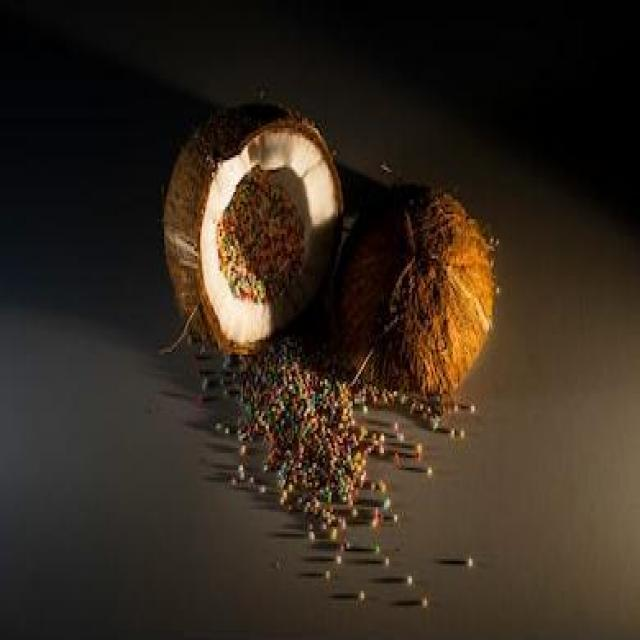coconut: (164, 94, 337, 350), (339, 180, 495, 395)
